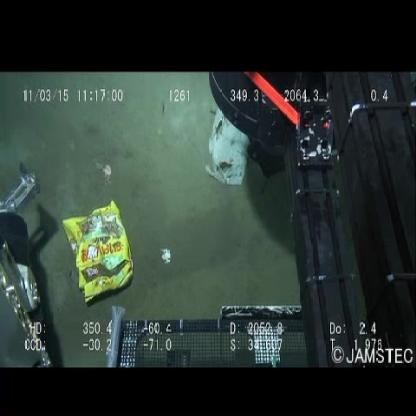Rov: (206, 72, 416, 302), (105, 302, 416, 367), (1, 158, 57, 369)
Rác: (60, 196, 138, 304), (205, 105, 253, 193)
